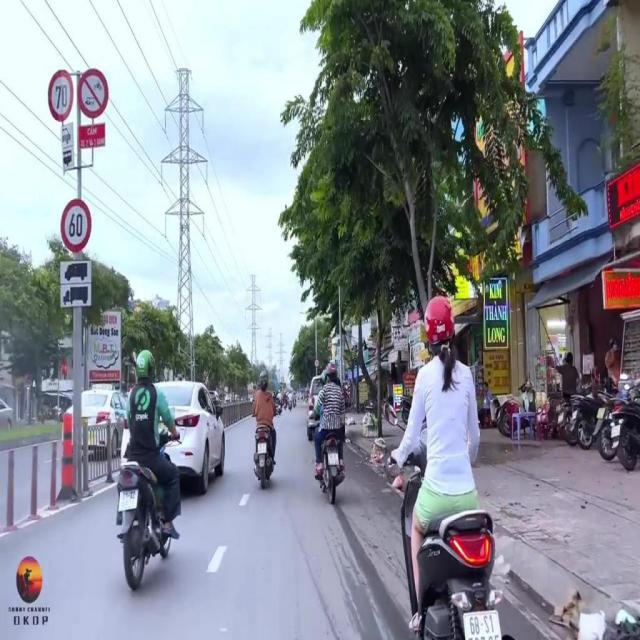cam_xe_2_banh_va_xe_3_banh_co_dong_co: (78, 69, 109, 118)
khac: (48, 71, 74, 121), (60, 260, 92, 284), (60, 284, 92, 308), (61, 122, 74, 148), (62, 147, 74, 168)
toc_do_toi_da_60: (61, 198, 92, 253)
